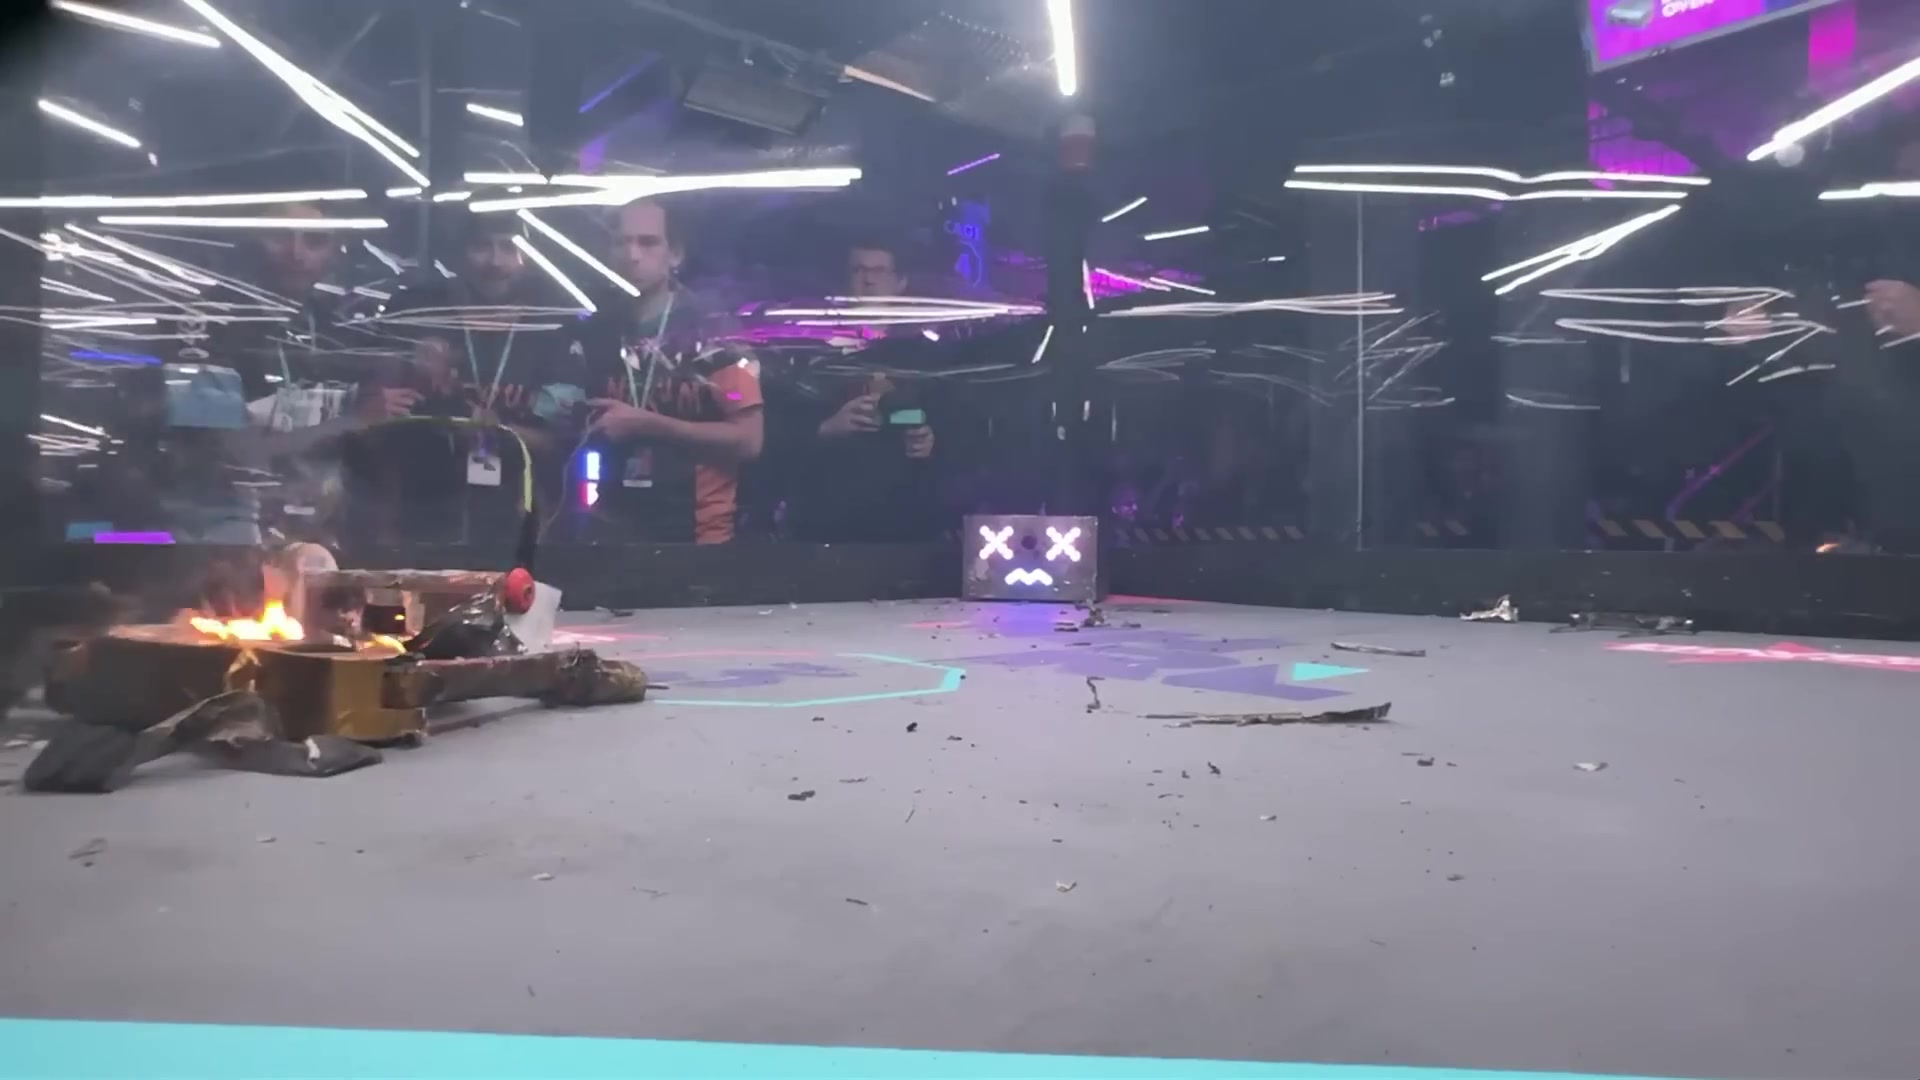combatbot: (57, 620, 448, 749), (258, 543, 562, 667)
debris: (1167, 704, 1396, 727), (1462, 593, 1510, 622)
housebot: (960, 513, 1113, 600)
minibot: (1555, 607, 1697, 636)
